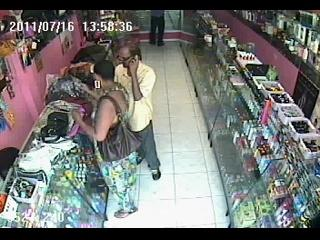Normal: (72, 60, 142, 220), (114, 42, 162, 182), (149, 10, 165, 46)
